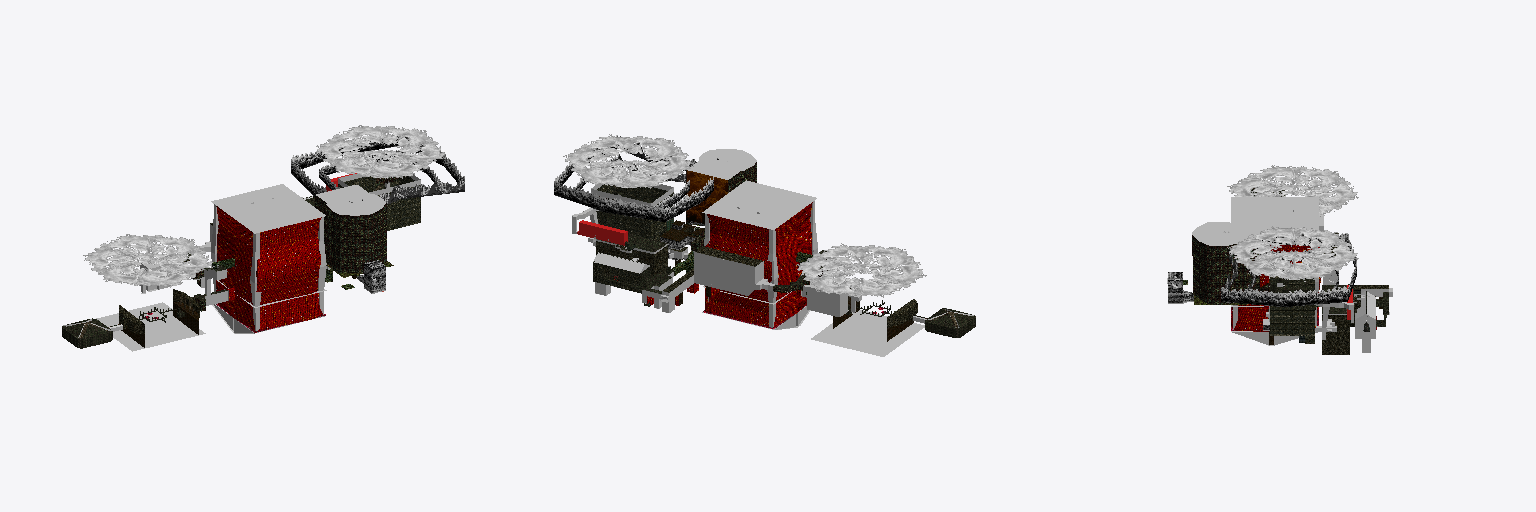
3 views of the same model, side by side, from view 1: azimuth 30°, elevation 25°; view 2: azimuth 150°, elevation 25°; view 3: azimuth 270°, elevation 25° (orthographic).
Parts seen in each view (by area): view 1: #Room1#_Room1#AnimatedA#JabuJabu#WetStone_fleshwall., #Room6#_Cloud#NoCollision#BackfaceCulling#AlphaFB#Animated8.001_, #Room11#_Cloud#NoCollision#BackfaceCulling#AlphaFB#Animated8_Clo, #Room0#_Wall_Room0_AbyssWall., #Room1#_Room1.002_BlackColor., #Room6#_Void#Void#Camera6_Fence.004., #Room1#_Pillar#NoCollision#AnimatedA.002_FleshPillar., #Room0#_Roof#NoCollision.001_BlackColor.001., #Room11#_Room11#IndoorEnv01#Camera1#Stone_BlackBricks., #Room11#_MoutainBackground#NoCollision.001_effect6.009., #Room17#_Room17#Stone#IndoorEnv01_BlackStone., #Room11#_MoutainBackground#NoCollision.001_Material.005. (+4 smaller); view 2: #Room1#_Room1#AnimatedA#JabuJabu#WetStone_fleshwall., #Room6#_Cloud#NoCollision#BackfaceCulling#AlphaFB#Animated8.001_, #Room11#_Cloud#NoCollision#BackfaceCulling#AlphaFB#Animated8_Clo, #Room1#_Room1.002_BlackColor., #Room4#_Room4#Camera1.002_MetalWall., #Room6#_Void#Void#Camera6_Fence.004., #Room11#_MoutainBackground#NoCollision.001_effect6.009., #Room11#_Room11#IndoorEnv01#Camera1#Stone_BlackBricks., #Room0#_Roof#NoCollision.001_BlackColor.001., #Room8#_Room8#IndoorEnv01#Stone_MetalWall., #Room1#_Pillar#NoCollision#AnimatedA.002_FleshPillar., #Room17#_Room17#Stone#IndoorEnv01_BlackStone. (+6 smaller); view 3: #Room11#_Cloud#NoCollision#BackfaceCulling#AlphaFB#Animated8_Clo, #Room6#_Cloud#NoCollision#BackfaceCulling#AlphaFB#Animated8.001_, #Room1#_Room1.002_BlackColor., #Room0#_Wall_Room0_AbyssWall., #Room11#_MoutainBackground#NoCollision.001_effect6.009., #Room11#_Room11#IndoorEnv01#Camera1#Stone_BlackBricks., #Room0#_Roof#NoCollision.001_BlackColor.001., #Room1#_Room1#AnimatedA#JabuJabu#WetStone_fleshwall., #Room12#_Room12#IndoorEnv00#Camera1#Stone_GraveStone..
Boxes of the visible parts, x1,y1,x2,y2 form: #Room1#_Room1#AnimatedA#JabuJabu#WetStone_fleshwall.: [216, 206, 322, 331]; #Room6#_Cloud#NoCollision#BackfaceCulling#AlphaFB#Animated8.001_: [83, 234, 214, 287]; #Room11#_Cloud#NoCollision#BackfaceCulling#AlphaFB#Animated8_Clo: [316, 125, 446, 178]; #Room0#_Wall_Room0_AbyssWall.: [315, 195, 386, 273]; #Room1#_Room1.002_BlackColor.: [211, 184, 325, 233]; #Room6#_Void#Void#Camera6_Fence.004.: [96, 302, 205, 351]; #Room1#_Pillar#NoCollision#AnimatedA.002_FleshPillar.: [211, 204, 326, 330]; #Room0#_Roof#NoCollision.001_BlackColor.001.: [316, 185, 385, 215]; #Room11#_Room11#IndoorEnv01#Camera1#Stone_BlackBricks.: [338, 176, 420, 230]; #Room11#_MoutainBackground#NoCollision.001_effect6.009.: [291, 134, 464, 202]; #Room17#_Room17#Stone#IndoorEnv01_BlackStone.: [62, 318, 112, 348]; #Room11#_MoutainBackground#NoCollision.001_Material.005.: [362, 179, 464, 204]; #Room1#_Room1#AnimatedA#JabuJabu#WetStone_fleshwall.: [705, 202, 812, 327]; #Room6#_Cloud#NoCollision#BackfaceCulling#AlphaFB#Animated8.001_: [796, 243, 926, 297]; #Room11#_Cloud#NoCollision#BackfaceCulling#AlphaFB#Animated8_Clo: [563, 134, 693, 188]; #Room1#_Room1.002_BlackColor.: [702, 180, 816, 229]; #Room4#_Room4#Camera1.002_MetalWall.: [642, 252, 759, 312]; #Room6#_Void#Void#Camera6_Fence.004.: [811, 310, 924, 356]; #Room11#_MoutainBackground#NoCollision.001_effect6.009.: [554, 135, 727, 221]; #Room11#_Room11#IndoorEnv01#Camera1#Stone_BlackBricks.: [596, 184, 673, 240]; #Room0#_Roof#NoCollision.001_BlackColor.001.: [687, 149, 756, 179]; #Room8#_Room8#IndoorEnv01#Stone_MetalWall.: [803, 283, 861, 316]; #Room1#_Pillar#NoCollision#AnimatedA.002_FleshPillar.: [704, 201, 817, 327]; #Room17#_Room17#Stone#IndoorEnv01_BlackStone.: [925, 308, 975, 337]; #Room11#_Cloud#NoCollision#BackfaceCulling#AlphaFB#Animated8_Clo: [1227, 226, 1358, 279]; #Room6#_Cloud#NoCollision#BackfaceCulling#AlphaFB#Animated8.001_: [1227, 165, 1358, 216]; #Room1#_Room1.002_BlackColor.: [1231, 197, 1318, 230]; #Room0#_Wall_Room0_AbyssWall.: [1192, 235, 1269, 304]; #Room11#_MoutainBackground#NoCollision.001_effect6.009.: [1221, 229, 1356, 306]; #Room11#_Room11#IndoorEnv01#Camera1#Stone_BlackBricks.: [1270, 270, 1314, 343]; #Room0#_Roof#NoCollision.001_BlackColor.001.: [1192, 222, 1259, 245]; #Room1#_Room1#AnimatedA#JabuJabu#WetStone_fleshwall.: [1231, 245, 1320, 331]; #Room12#_Room12#IndoorEnv00#Camera1#Stone_GraveStone.: [1322, 295, 1360, 354].
Bounding box in the file's own units: 15475 × 5144 × 7836.
Materials: 142 (54 with a texture image).